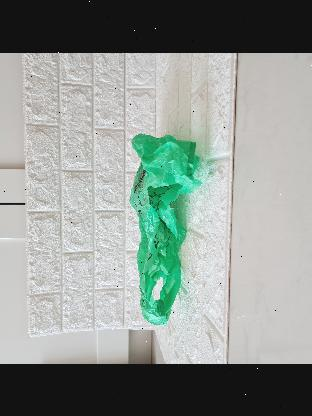Others: (128, 127, 199, 323)
